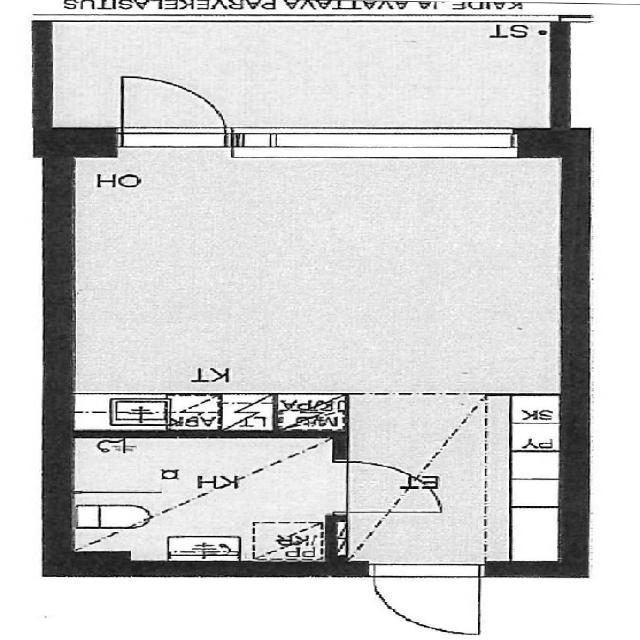door: (372, 568, 487, 634), (323, 456, 443, 516), (120, 77, 236, 137)
window: (233, 124, 516, 154)
zone: (64, 143, 547, 430), (336, 393, 564, 575), (77, 434, 322, 568)
